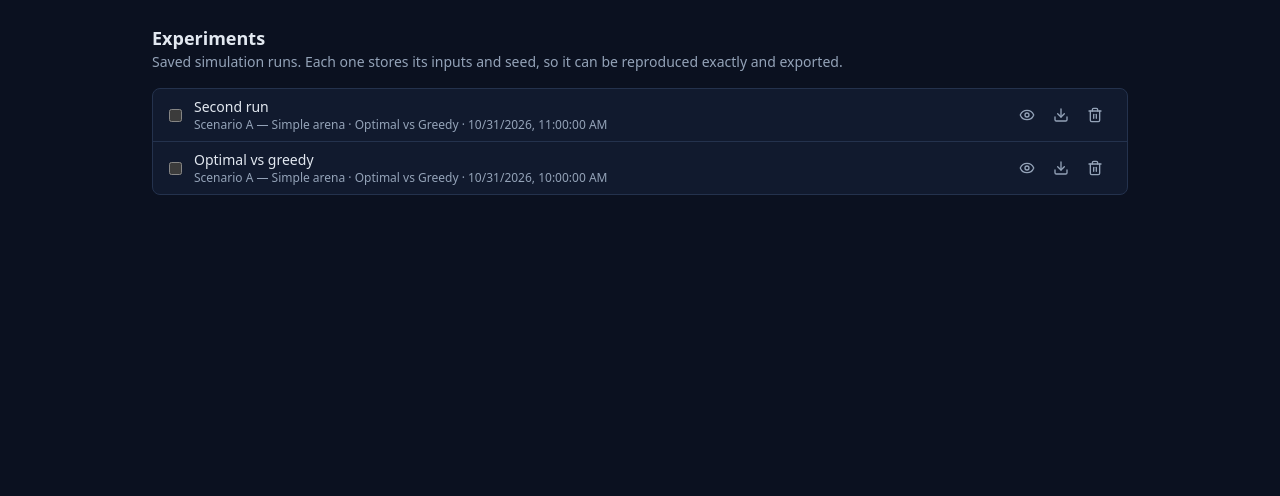
Test: ExperimentsPage › shows the saved results of the selected experiment
Step 1. Click the button named "View Optimal vs greedy" → (1027, 168), box left=1011, top=152, right=1043, bottom=184
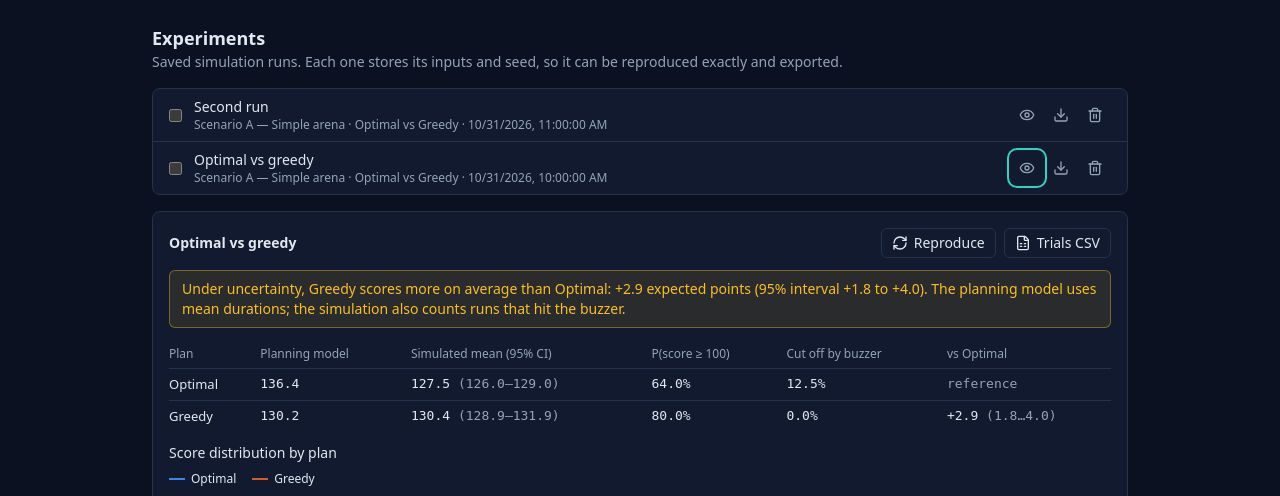
Now the text "Greedy" is shown, box left=169, top=400, right=260, bottom=431
